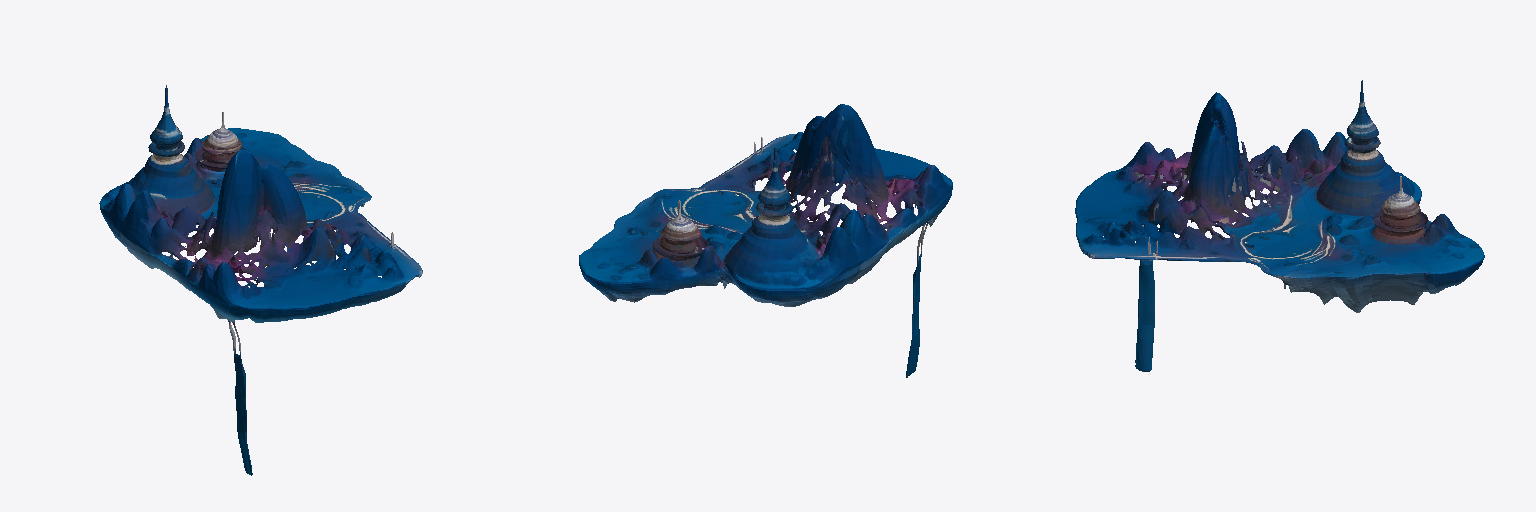
3 views of the same model, side by side, from view 1: azimuth 30°, elevation 25°; view 2: azimuth 150°, elevation 25°; view 3: azimuth 270°, elevation 25° (orthographic).
Parts seen in each view (by area): view 1: tripo_node_a6c5d5d6-15fb-49d7-8d7d-4ce145c50679; view 2: tripo_node_a6c5d5d6-15fb-49d7-8d7d-4ce145c50679; view 3: tripo_node_a6c5d5d6-15fb-49d7-8d7d-4ce145c50679.
Part boxes in pixels (left/top/right/bottom): tripo_node_a6c5d5d6-15fb-49d7-8d7d-4ce145c50679: left=99, top=85, right=422, bottom=475; tripo_node_a6c5d5d6-15fb-49d7-8d7d-4ce145c50679: left=579, top=104, right=952, bottom=377; tripo_node_a6c5d5d6-15fb-49d7-8d7d-4ce145c50679: left=1075, top=80, right=1484, bottom=371.
Size of the model in its own units: 0.6489 by 0.8175 by 0.9964.
1 materials, 1 textured.